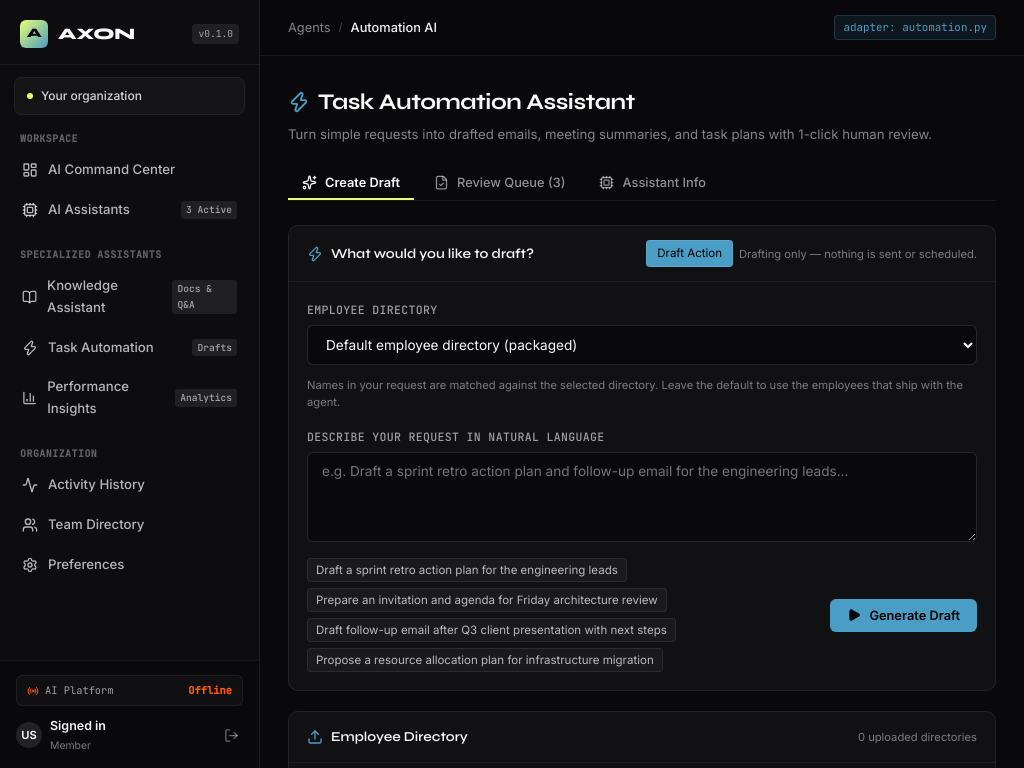
Test case: AutomationAIPage directory selection › reports which directory produced the draft
Step 1. Type "Draft a standup with Aarti" into the text box → (642, 497), box [307,452,977,542]
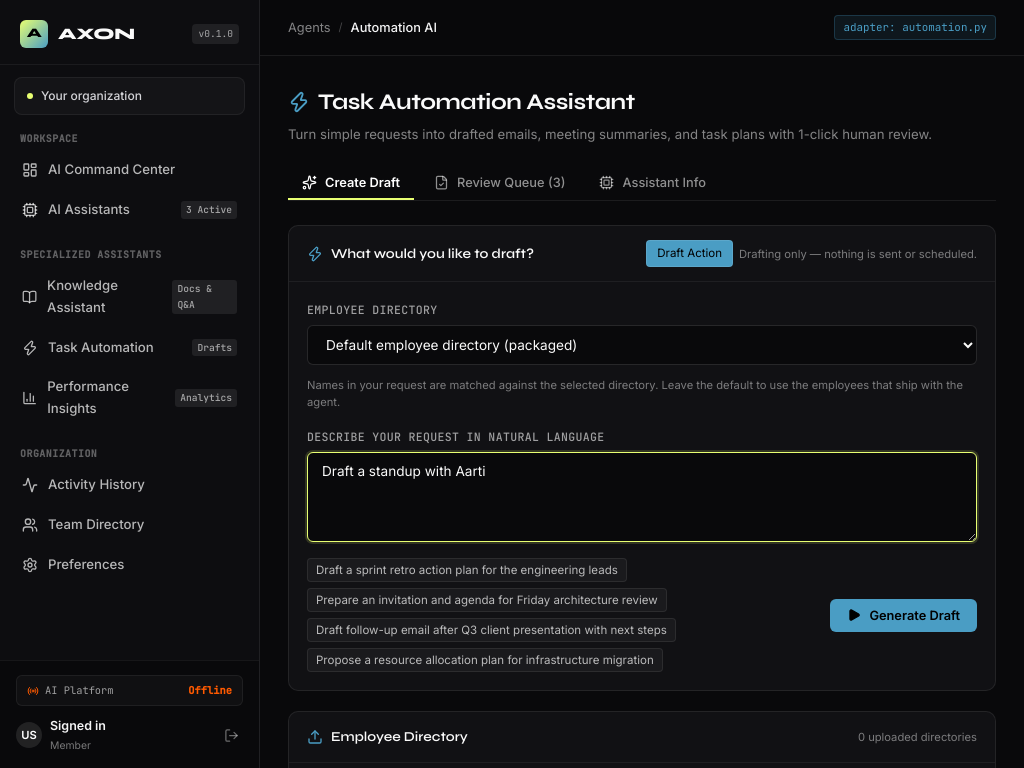
Step 2. Click the button "Generate Draft" → (904, 615), box [830,598,977,632]
(page scrolled)
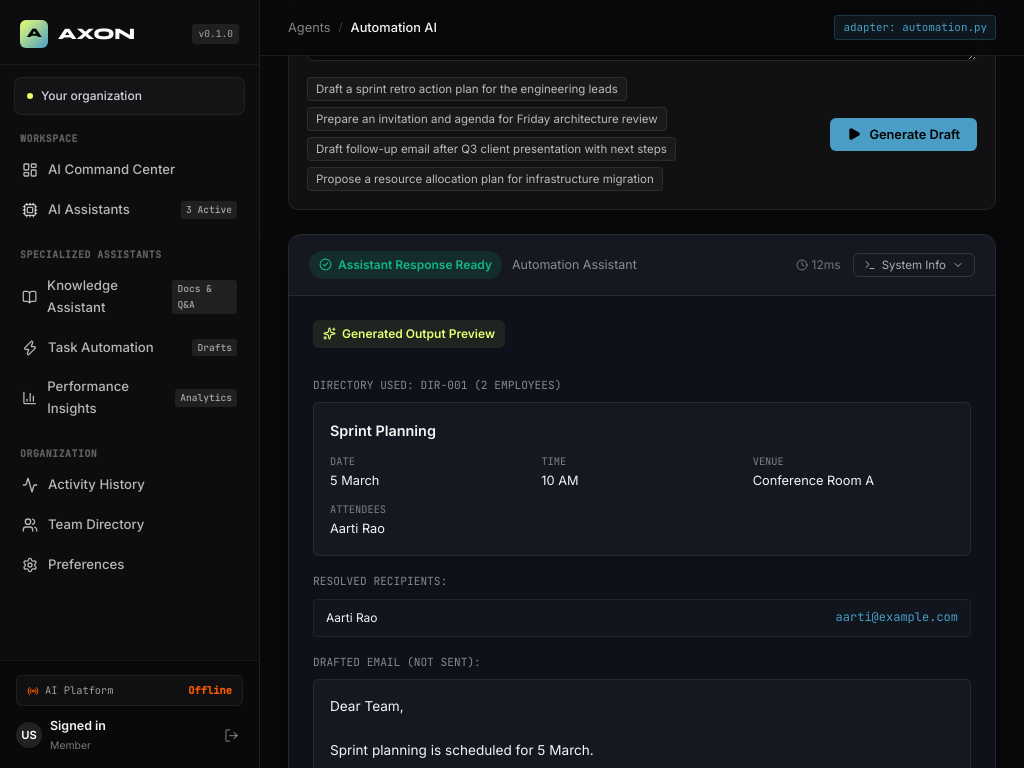
Now the text "DIRECTORY USED: dir-001 (2 employees)" is shown, box [313,378,561,392]
